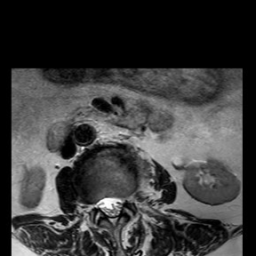CCS_normal: (107, 188, 116, 232)
LFS_stenosis: (124, 183, 133, 213)
LLS_normal: (116, 186, 124, 218)
RFS_stenosis: (88, 191, 97, 218)
RLS_normal: (97, 189, 108, 220)
